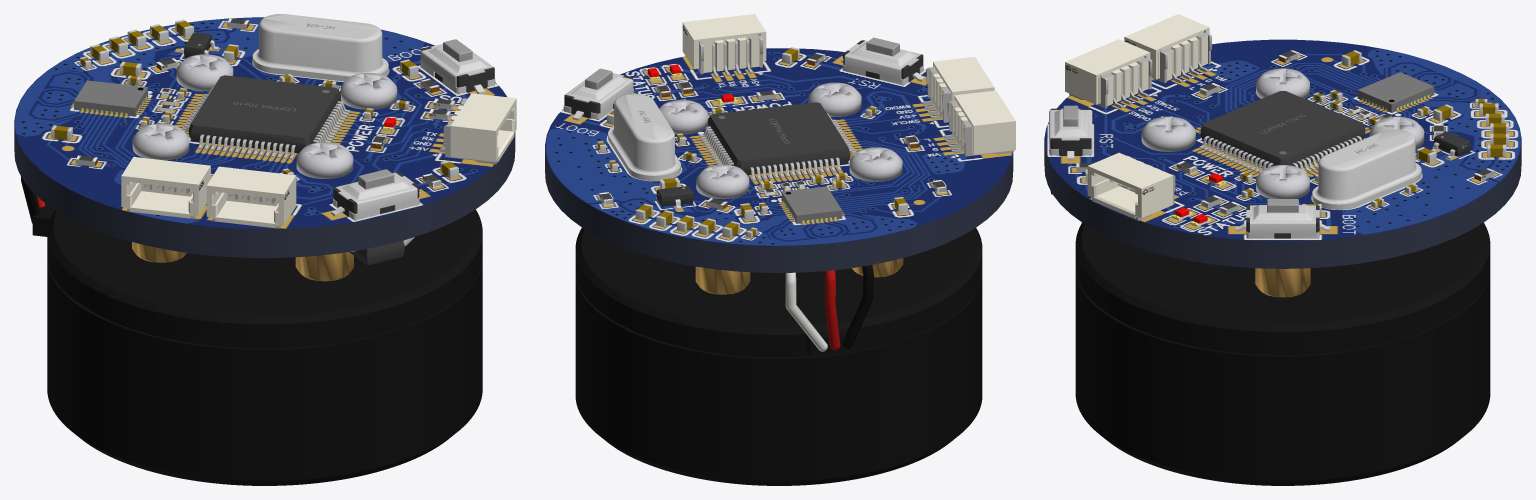
The model's file is pcb_motor_assembly.glb.
3 renders of one model, left to right at view 1: azimuth 30°, elevation 25°; view 2: azimuth 150°, elevation 25°; view 3: azimuth 270°, elevation 25°, orthographic. The views are drawn at different scales.
Visible parts, largest first — view 1: motor_rotor, PCB_top, motor_stator, PCB_edge, parts_mtl23, parts_mtl15, parts_mtl11, screws, parts_mtl8, brass, parts_mtl20, parts_mtl10 (+6 smaller); view 2: motor_rotor, PCB_top, motor_stator, PCB_edge, parts_mtl23, parts_mtl15, parts_mtl11, screws, parts_mtl5, parts_mtl8, brass, parts_mtl10 (+9 smaller); view 3: motor_rotor, PCB_top, motor_stator, PCB_edge, parts_mtl23, parts_mtl15, parts_mtl11, screws, parts_mtl5, parts_mtl20, parts_mtl8, parts_mtl7 (+6 smaller).
Part boxes in pixels (<box>): motor_rotor: <box>47,259,482,485</box>; PCB_top: <box>14,17,511,228</box>; motor_stator: <box>32,203,482,348</box>; PCB_edge: <box>14,123,515,258</box>; parts_mtl23: <box>121,93,516,228</box>; parts_mtl15: <box>180,14,495,219</box>; parts_mtl11: <box>188,75,404,265</box>; screws: <box>132,54,397,178</box>; parts_mtl8: <box>51,19,458,178</box>; brass: <box>132,242,353,281</box>; parts_mtl20: <box>74,80,147,116</box>; parts_mtl10: <box>182,87,414,251</box>; motor_rotor: <box>575,275,982,485</box>; PCB_top: <box>545,48,1012,245</box>; motor_stator: <box>575,228,982,357</box>; PCB_edge: <box>545,146,1013,272</box>; parts_mtl23: <box>682,14,1015,154</box>; parts_mtl15: <box>563,40,925,209</box>; parts_mtl11: <box>708,102,850,174</box>; screws: <box>659,82,902,199</box>; parts_mtl5: <box>599,35,1013,209</box>; parts_mtl8: <box>597,47,907,238</box>; brass: <box>695,258,903,294</box>; parts_mtl10: <box>699,113,856,180</box>; motor_rotor: <box>1075,270,1490,485</box>; PCB_top: <box>1044,39,1521,241</box>; motor_stator: <box>1075,222,1490,354</box>; PCB_edge: <box>1044,138,1521,268</box>; parts_mtl23: <box>1065,14,1209,219</box>; parts_mtl15: <box>1049,108,1467,238</box>; parts_mtl11: <box>1050,91,1365,194</box>; screws: <box>1141,68,1424,198</box>; parts_mtl5: <box>1069,31,1494,220</box>; parts_mtl20: <box>1180,72,1434,223</box>; parts_mtl8: <box>1085,50,1509,216</box>; parts_mtl7: <box>1163,51,1506,206</box>.
Size of the model in its own units: 0.0397 by 0.0276 by 0.0397.
40 materials, 2 textured.
